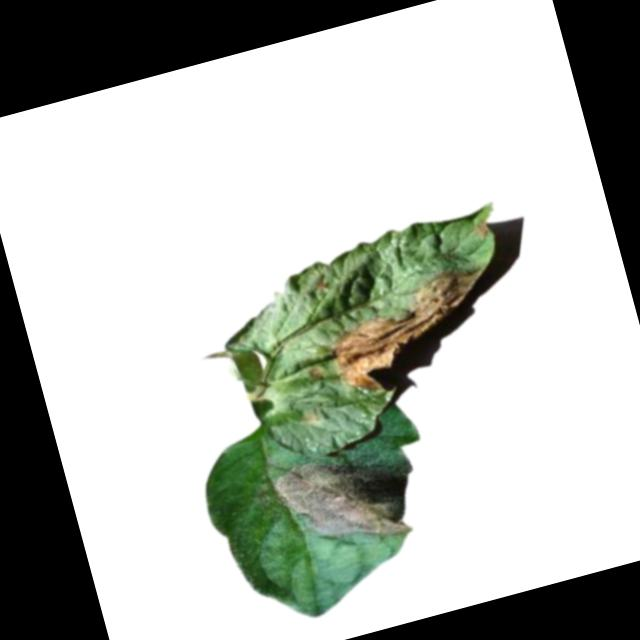Late_blight: (317, 260, 504, 401), (267, 433, 428, 566), (470, 217, 493, 242)
